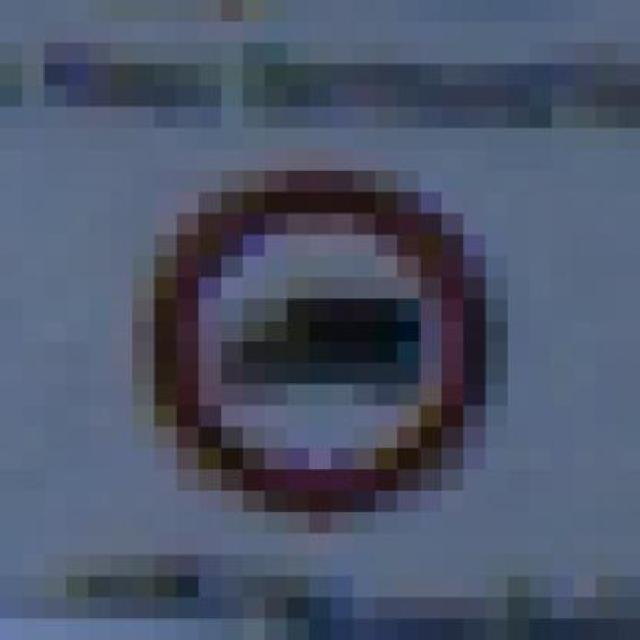Truck traffic is prohibited: (98, 117, 560, 545)
